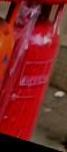cylinder: (1, 0, 67, 152)
